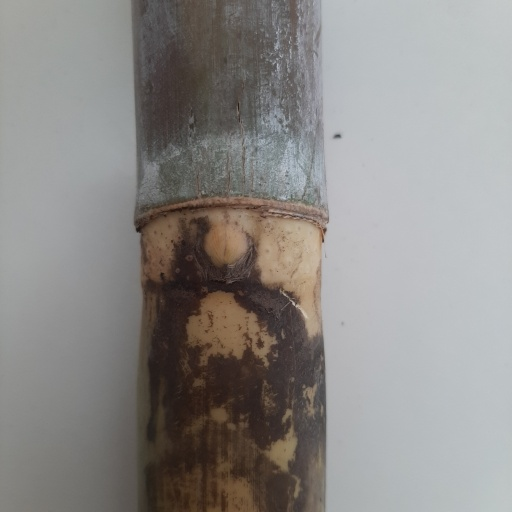Bud: (199, 216, 255, 277)
